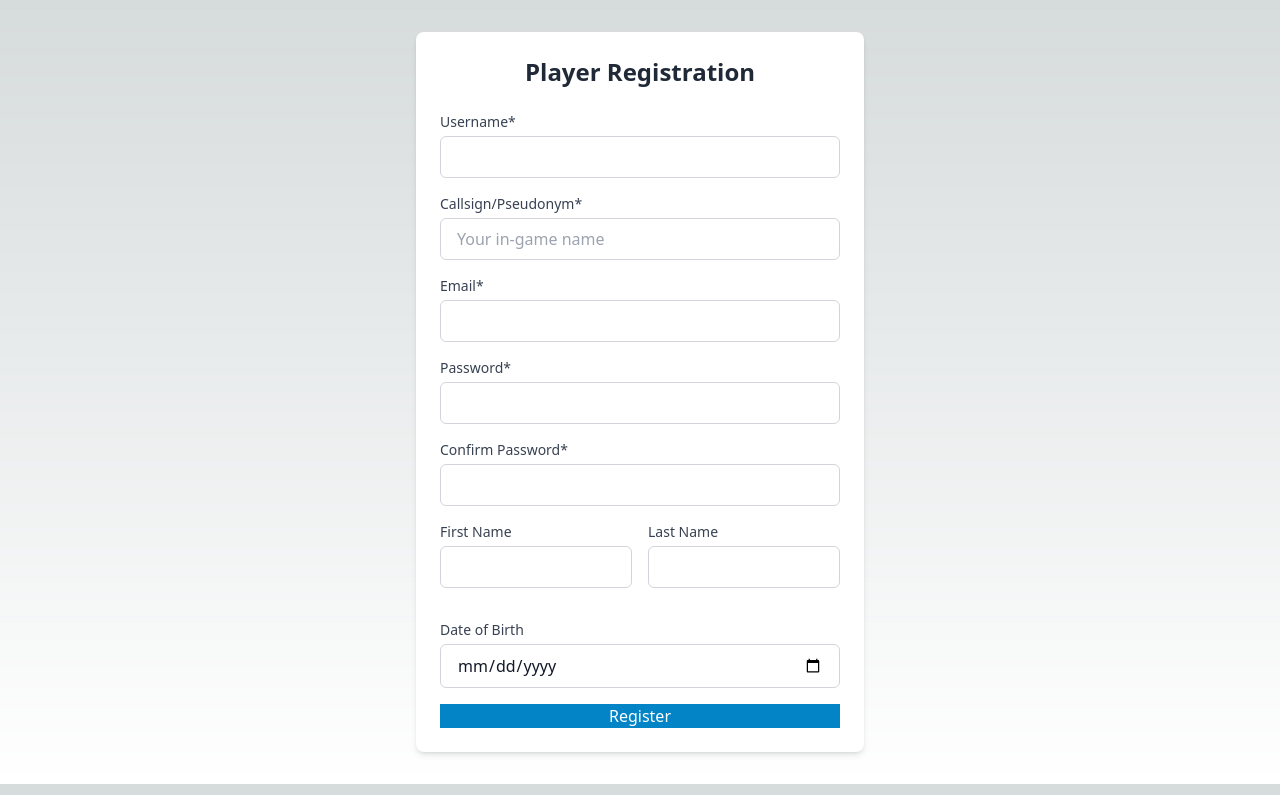
Test case: PlayerRegistration › handles non-axios errors gracefully
Fill out the form
Type "testuser" into the field with test id "username-input".
click(640, 157); type("testuser")  # box [440,136,840,178]
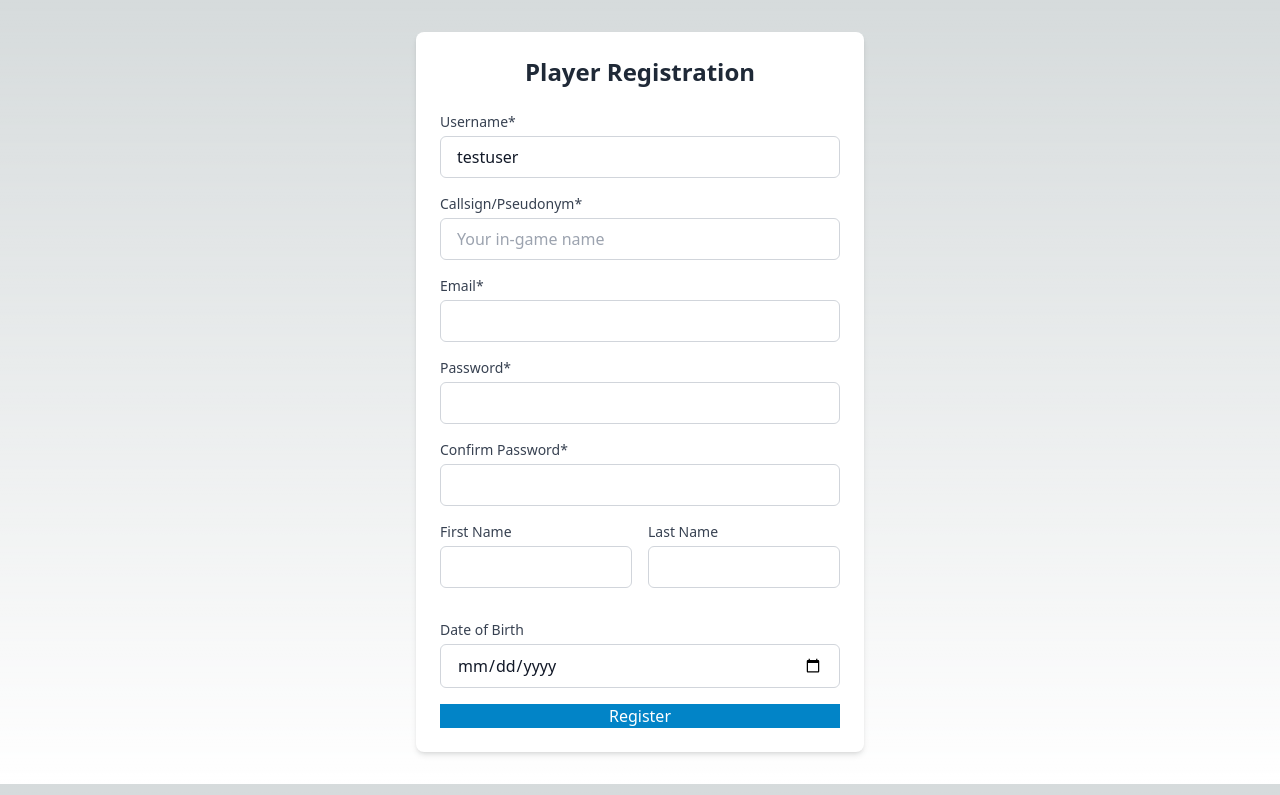
Type "TestPlayer" into the field with test id "callsign-input".
click(640, 239); type("TestPlayer")  # box [440,218,840,260]
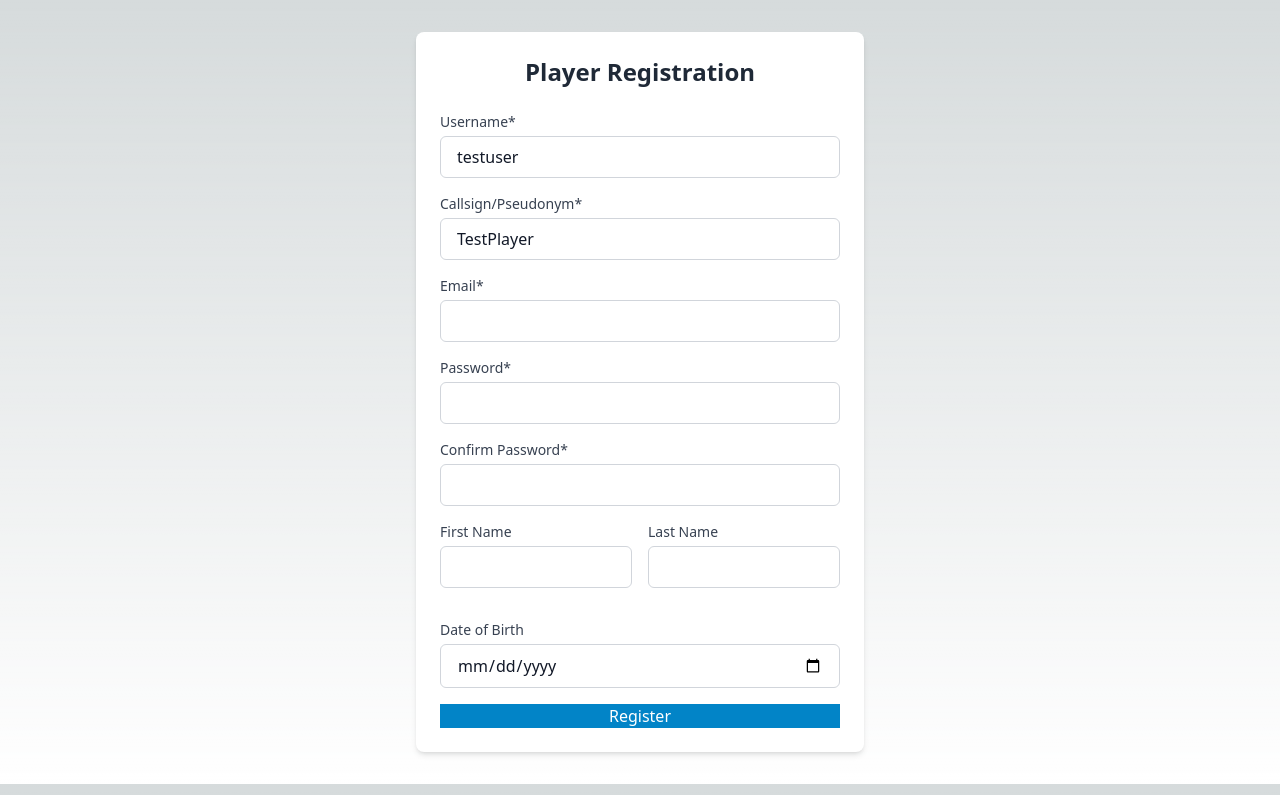
Type "test@example.com" into the field with test id "email-input".
click(640, 321); type("test@example.com")  # box [440,300,840,342]
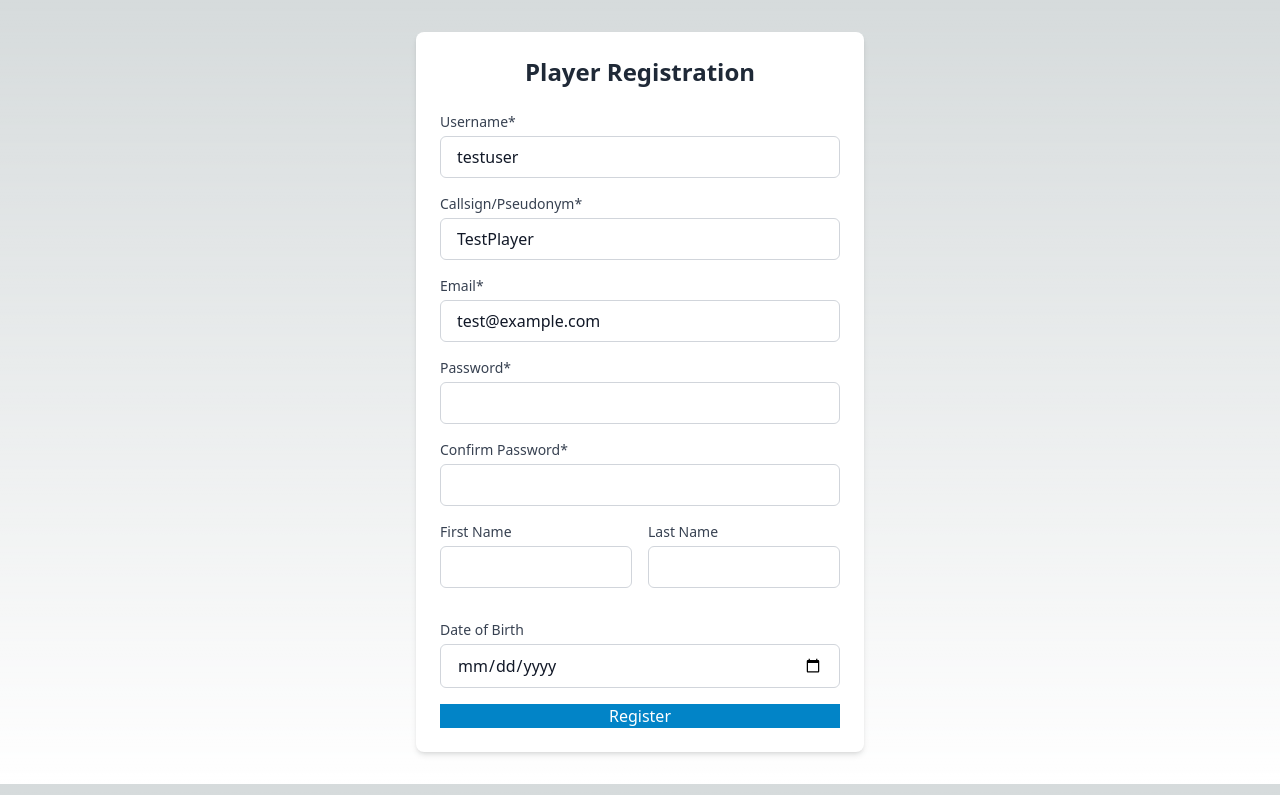
Type "Password123!" into the password field with test id "password-input".
click(640, 403); type("Password123!")  # box [440,382,840,424]
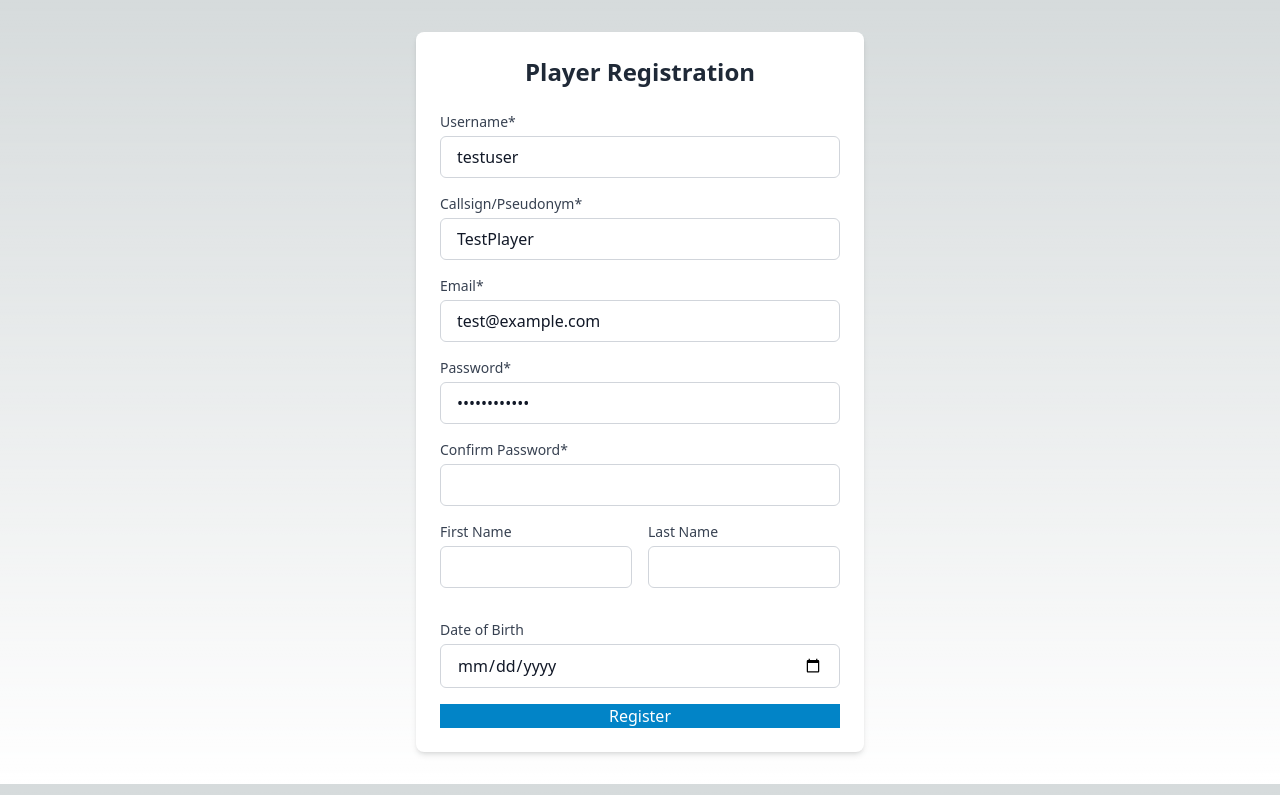
Type "Password123!" into the password field with test id "confirm-password-input".
click(640, 485); type("Password123!")  # box [440,464,840,506]
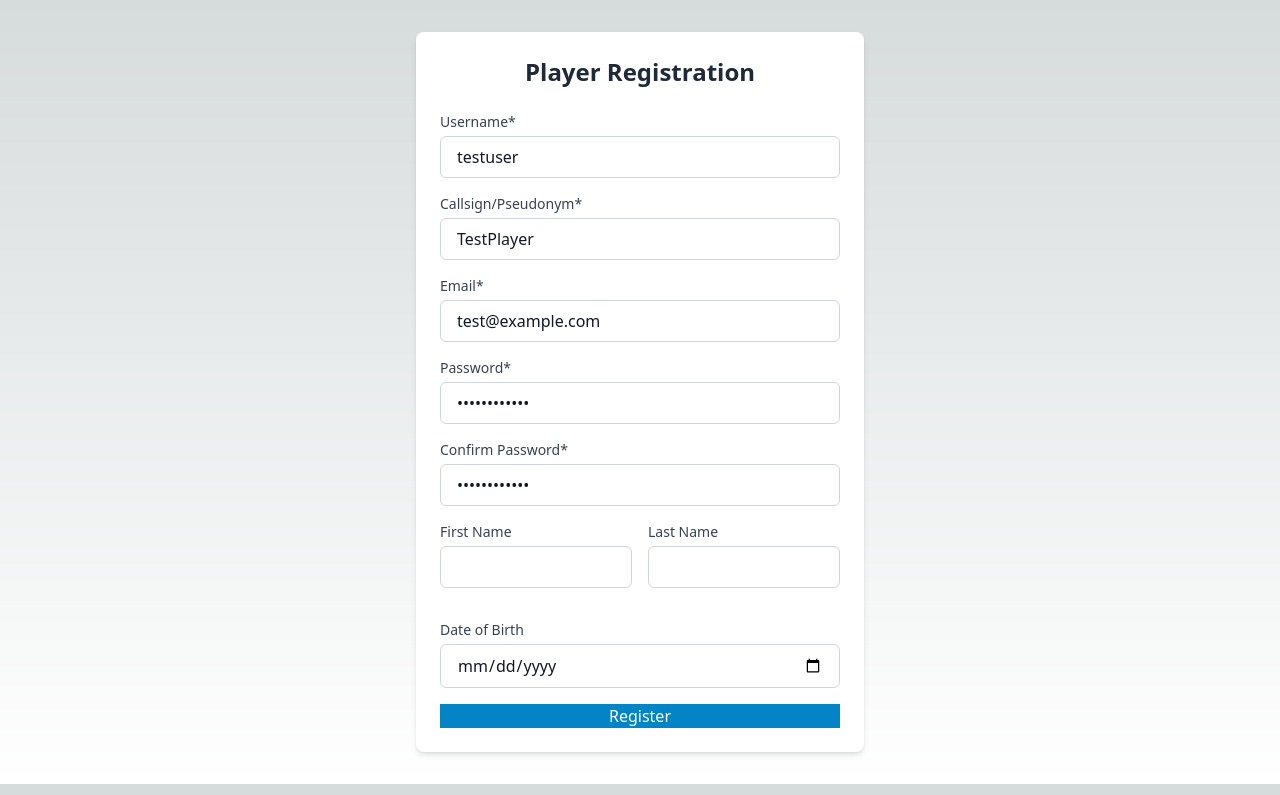
Submit the form
Click the button with test id "register-button".
click(640, 716)  # box [440,704,840,728]
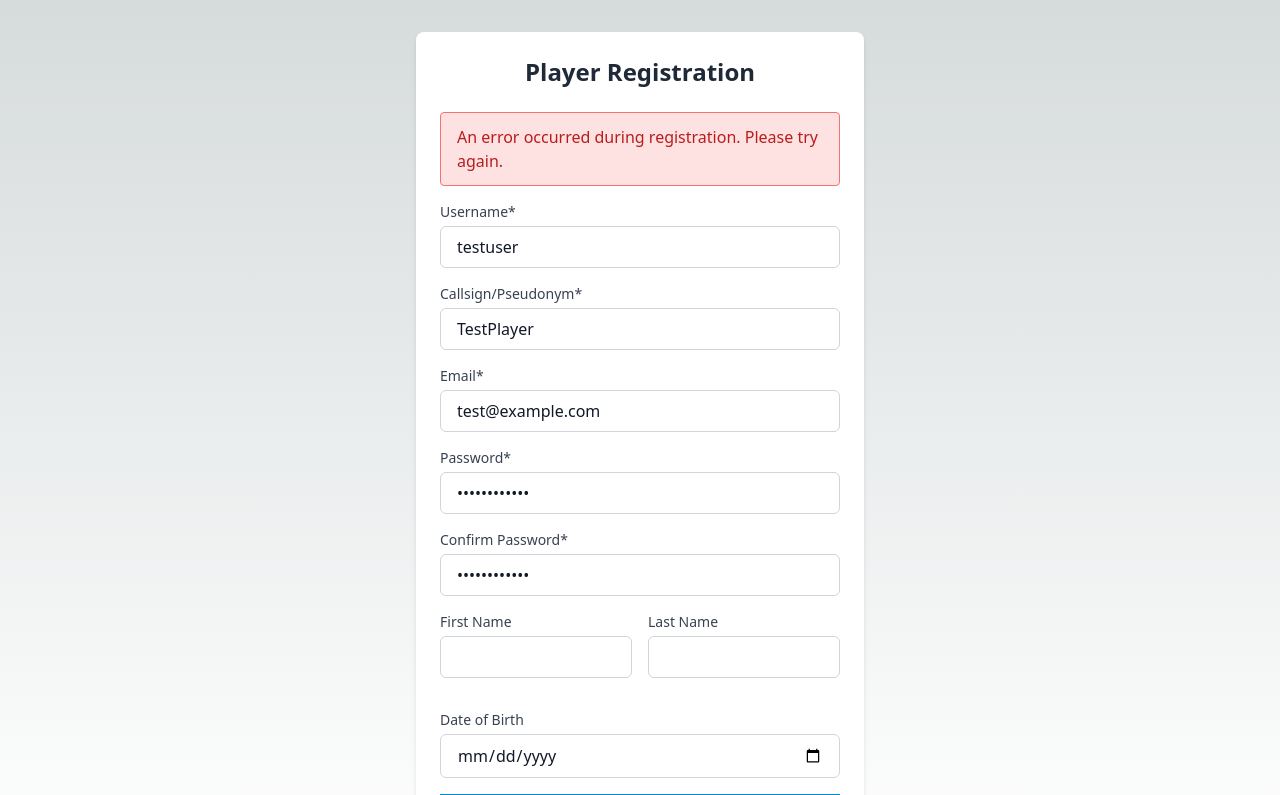
Check: the text "An error occurred during registration. Please try again." is shown, box [440,112,840,186]
Check: the text with test id "general-error" reads "An error occurred during registration. Please try again.", box [457,126,818,172]
